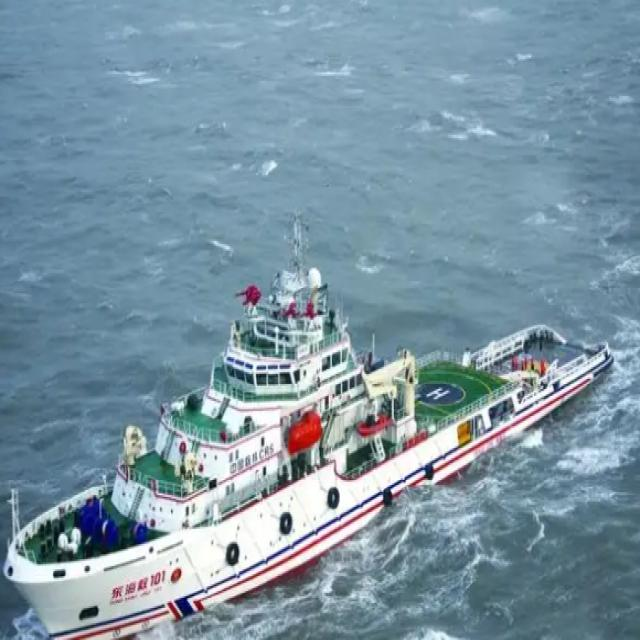navalvessels: (0, 236, 615, 640)
